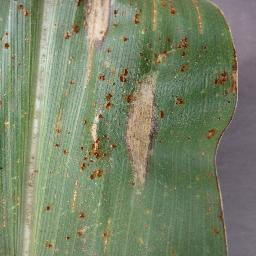Corn_Blight: (113, 67, 157, 192), (211, 145, 231, 256), (74, 0, 119, 43), (139, 28, 172, 65), (227, 43, 243, 105), (24, 154, 37, 227), (86, 129, 115, 160), (173, 33, 193, 74), (41, 7, 54, 67), (95, 71, 113, 110), (29, 78, 40, 137), (201, 127, 230, 146), (77, 161, 106, 180), (153, 0, 178, 19), (211, 65, 227, 91), (73, 209, 87, 238), (69, 183, 85, 205), (77, 114, 108, 125), (195, 0, 205, 33), (101, 224, 113, 250), (97, 45, 111, 67), (14, 0, 32, 17), (0, 27, 11, 54), (51, 123, 62, 149), (156, 105, 170, 125), (1, 107, 12, 130), (133, 6, 142, 27), (52, 105, 63, 122), (64, 27, 74, 41), (44, 243, 59, 252), (175, 96, 186, 107), (66, 78, 76, 90), (120, 34, 133, 43), (63, 234, 71, 244), (41, 206, 53, 212), (64, 149, 69, 162), (0, 161, 4, 177)
